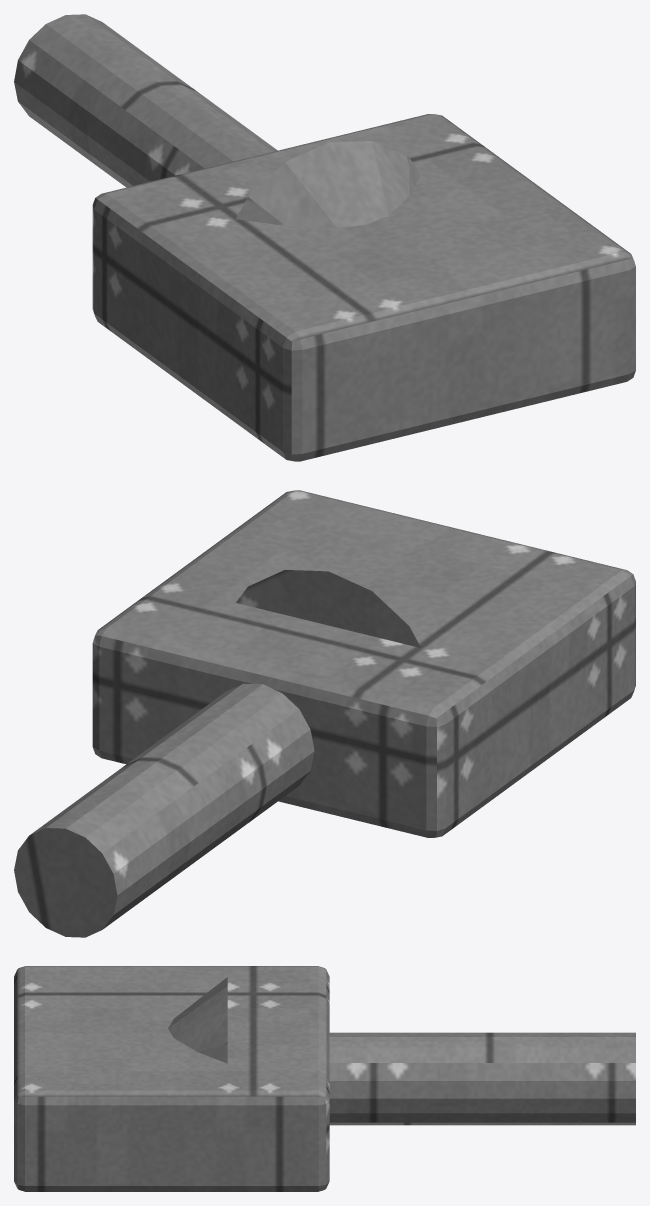
Rendered from attach_8.glb.
3 renders of one model, top to bottom at view 1: azimuth 30°, elevation 25°; view 2: azimuth 150°, elevation 25°; view 3: azimuth 270°, elevation 25°, orthographic. The views are drawn at different scales.
Visible parts, largest first — view 1: attach_8; view 2: attach_8; view 3: attach_8.
Boxes of the visible parts, x1,y1,x2,y2 form: attach_8: [14, 14, 635, 461]; attach_8: [14, 490, 635, 937]; attach_8: [14, 966, 635, 1191].
Size of the model in its own units: 0.34 by 0.22 by 0.67.
Materials: 1 (1 with a texture image).
